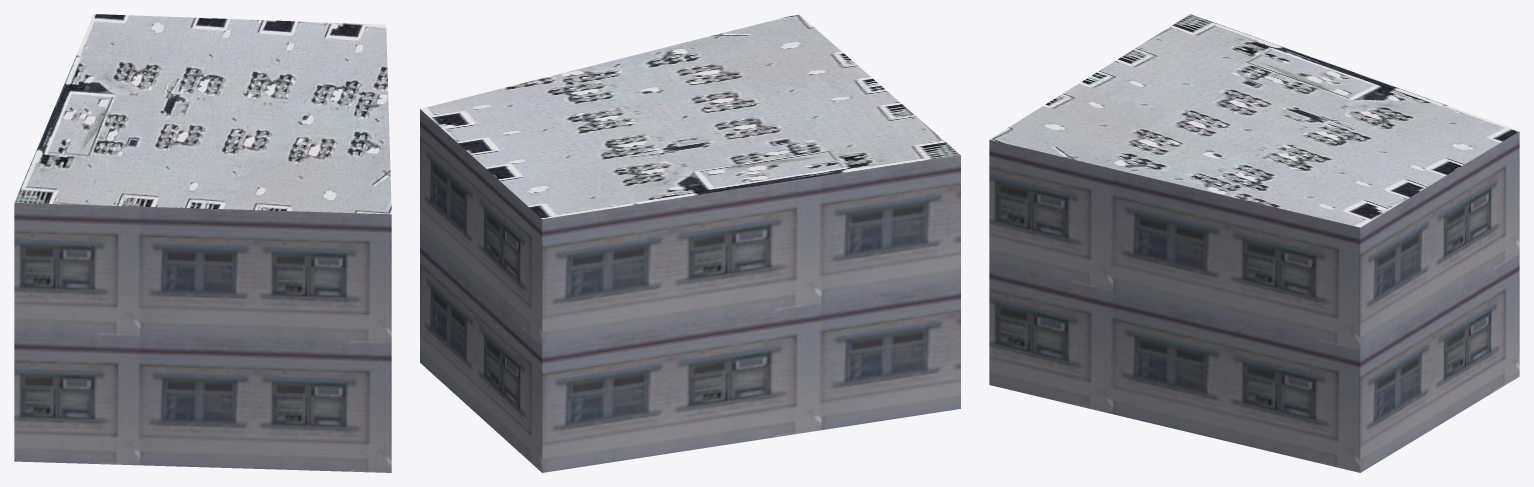
File: ResTex__225.fbx
3 views of the same model, side by side, from view 1: azimuth 30°, elevation 25°; view 2: azimuth 150°, elevation 25°; view 3: azimuth 270°, elevation 25° (orthographic). The views are drawn at different scales.
Parts seen in each view (by area): view 1: CityEngineMaterial_1_m, CityEngineMaterial_4_m; view 2: CityEngineMaterial_1_m, CityEngineMaterial_4_m; view 3: CityEngineMaterial_1_m, CityEngineMaterial_4_m.
Part boxes in pixels (left/top/right/bottom): CityEngineMaterial_1_m: left=14, top=203, right=391, bottom=472; CityEngineMaterial_4_m: left=14, top=14, right=391, bottom=214; CityEngineMaterial_1_m: left=420, top=109, right=960, bottom=472; CityEngineMaterial_4_m: left=420, top=14, right=960, bottom=219; CityEngineMaterial_1_m: left=989, top=131, right=1519, bottom=472; CityEngineMaterial_4_m: left=989, top=14, right=1519, bottom=227.
Bounding box in the file's own units: 11.2 × 6 × 11.76.
Materials: 2 (2 with a texture image).
